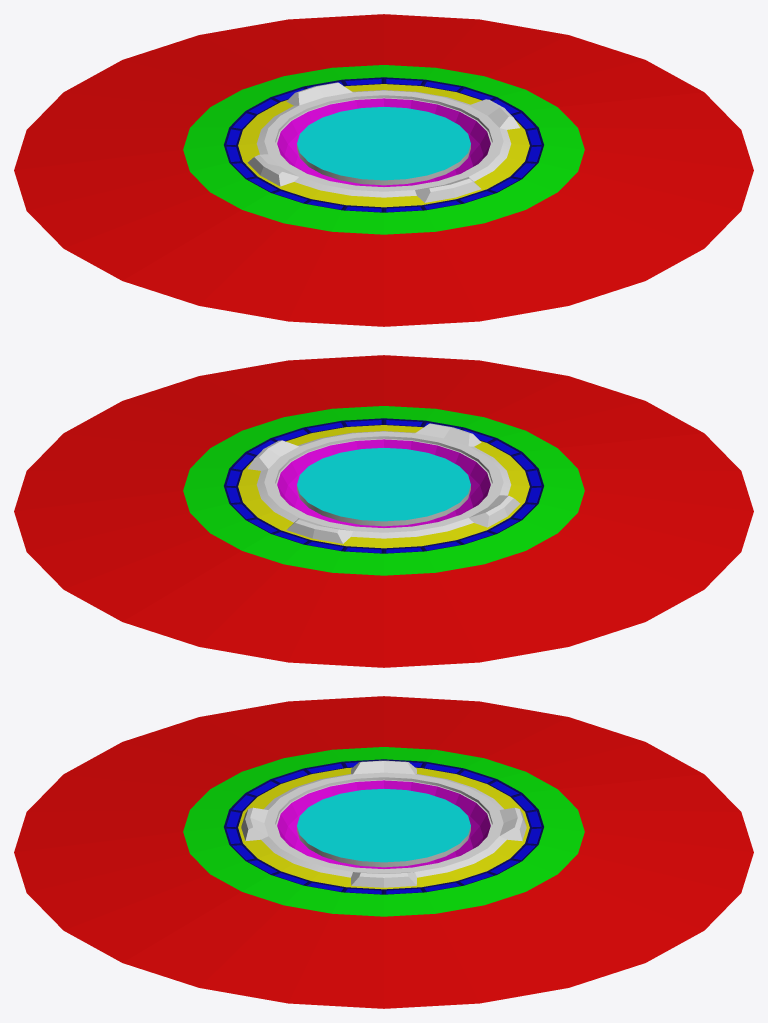
File: LightAccelerator.fbx
The picture shows the model from 3 angles, top to bottom: view 1: azimuth 30°, elevation 25°; view 2: azimuth 150°, elevation 25°; view 3: azimuth 270°, elevation 25°; orthographic projection.
Parts seen in each view (by area): view 1: AcceleratorBase, AcceleratorPlatform, AcceleratorCoil; view 2: AcceleratorBase, AcceleratorPlatform, AcceleratorCoil; view 3: AcceleratorBase, AcceleratorPlatform, AcceleratorCoil.
Part boxes in pixels (bbox=[...]): AcceleratorBase: bbox=[14, 14, 753, 326]; AcceleratorPlatform: bbox=[297, 107, 470, 185]; AcceleratorCoil: bbox=[247, 82, 519, 202]; AcceleratorBase: bbox=[14, 355, 753, 667]; AcceleratorPlatform: bbox=[297, 448, 470, 526]; AcceleratorCoil: bbox=[248, 423, 520, 543]; AcceleratorBase: bbox=[14, 696, 753, 1008]; AcceleratorPlatform: bbox=[297, 789, 470, 867]; AcceleratorCoil: bbox=[241, 760, 526, 887].
Bounding box in the file's own units: 68.01 × 5.32 × 68.01.
